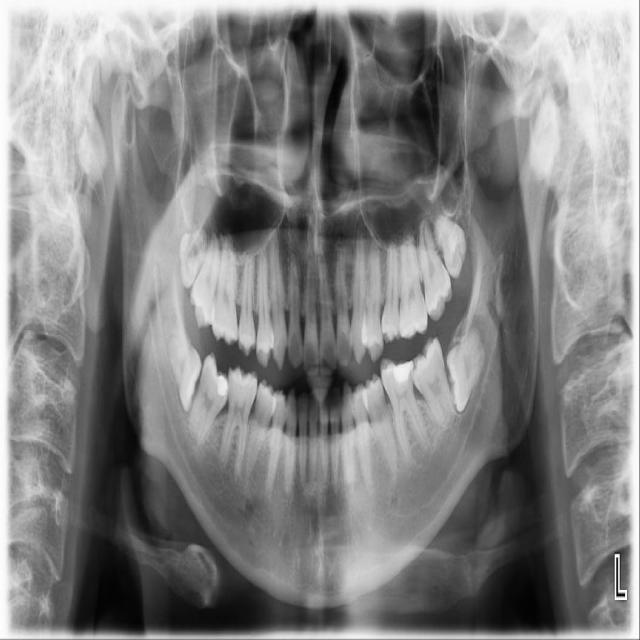Filling: (385, 361, 414, 386), (211, 374, 228, 397)
impacted tooth: (445, 324, 488, 412), (167, 324, 200, 407), (180, 225, 207, 284)
